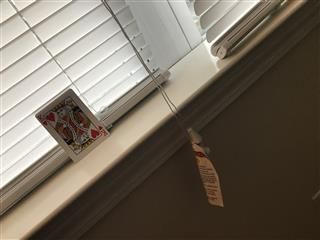KingOfHearts: (34, 88, 110, 163)
